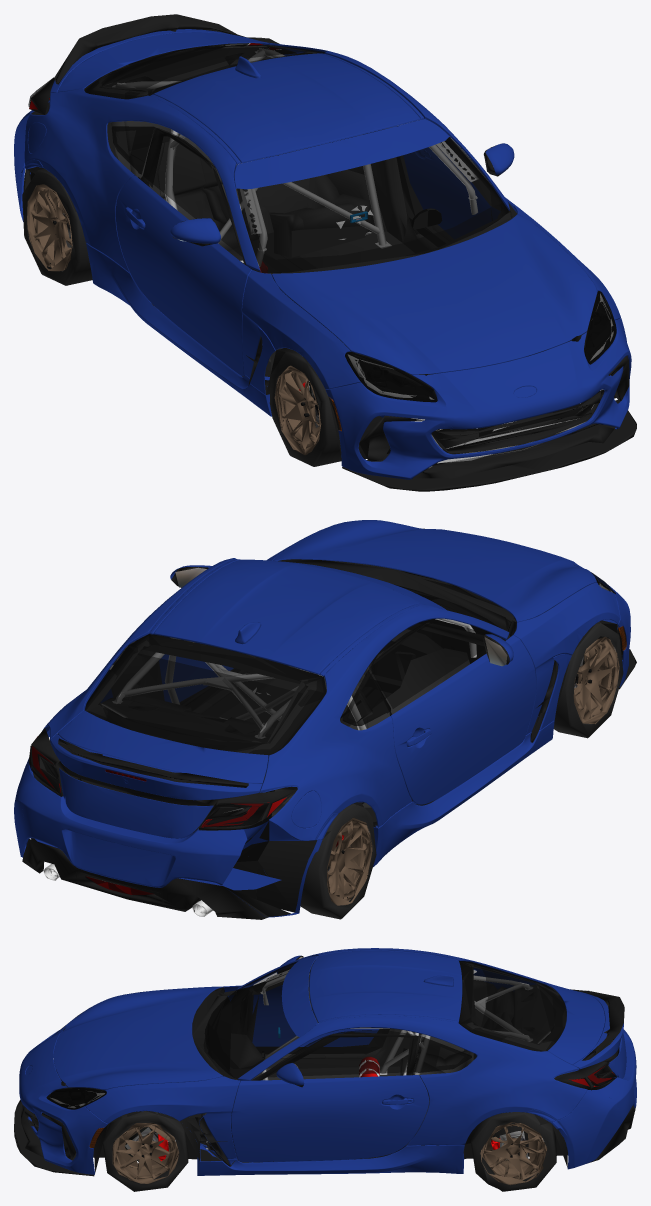
File: rwd24.glb
3 renders of one model, top to bottom at view 1: azimuth 30°, elevation 25°; view 2: azimuth 150°, elevation 25°; view 3: azimuth 270°, elevation 25°, orthographic. The views are drawn at different scales.
Bounding box in the file's own units: 2.03 × 1.26 × 4.34.
Materials: 25 (14 with a texture image).
